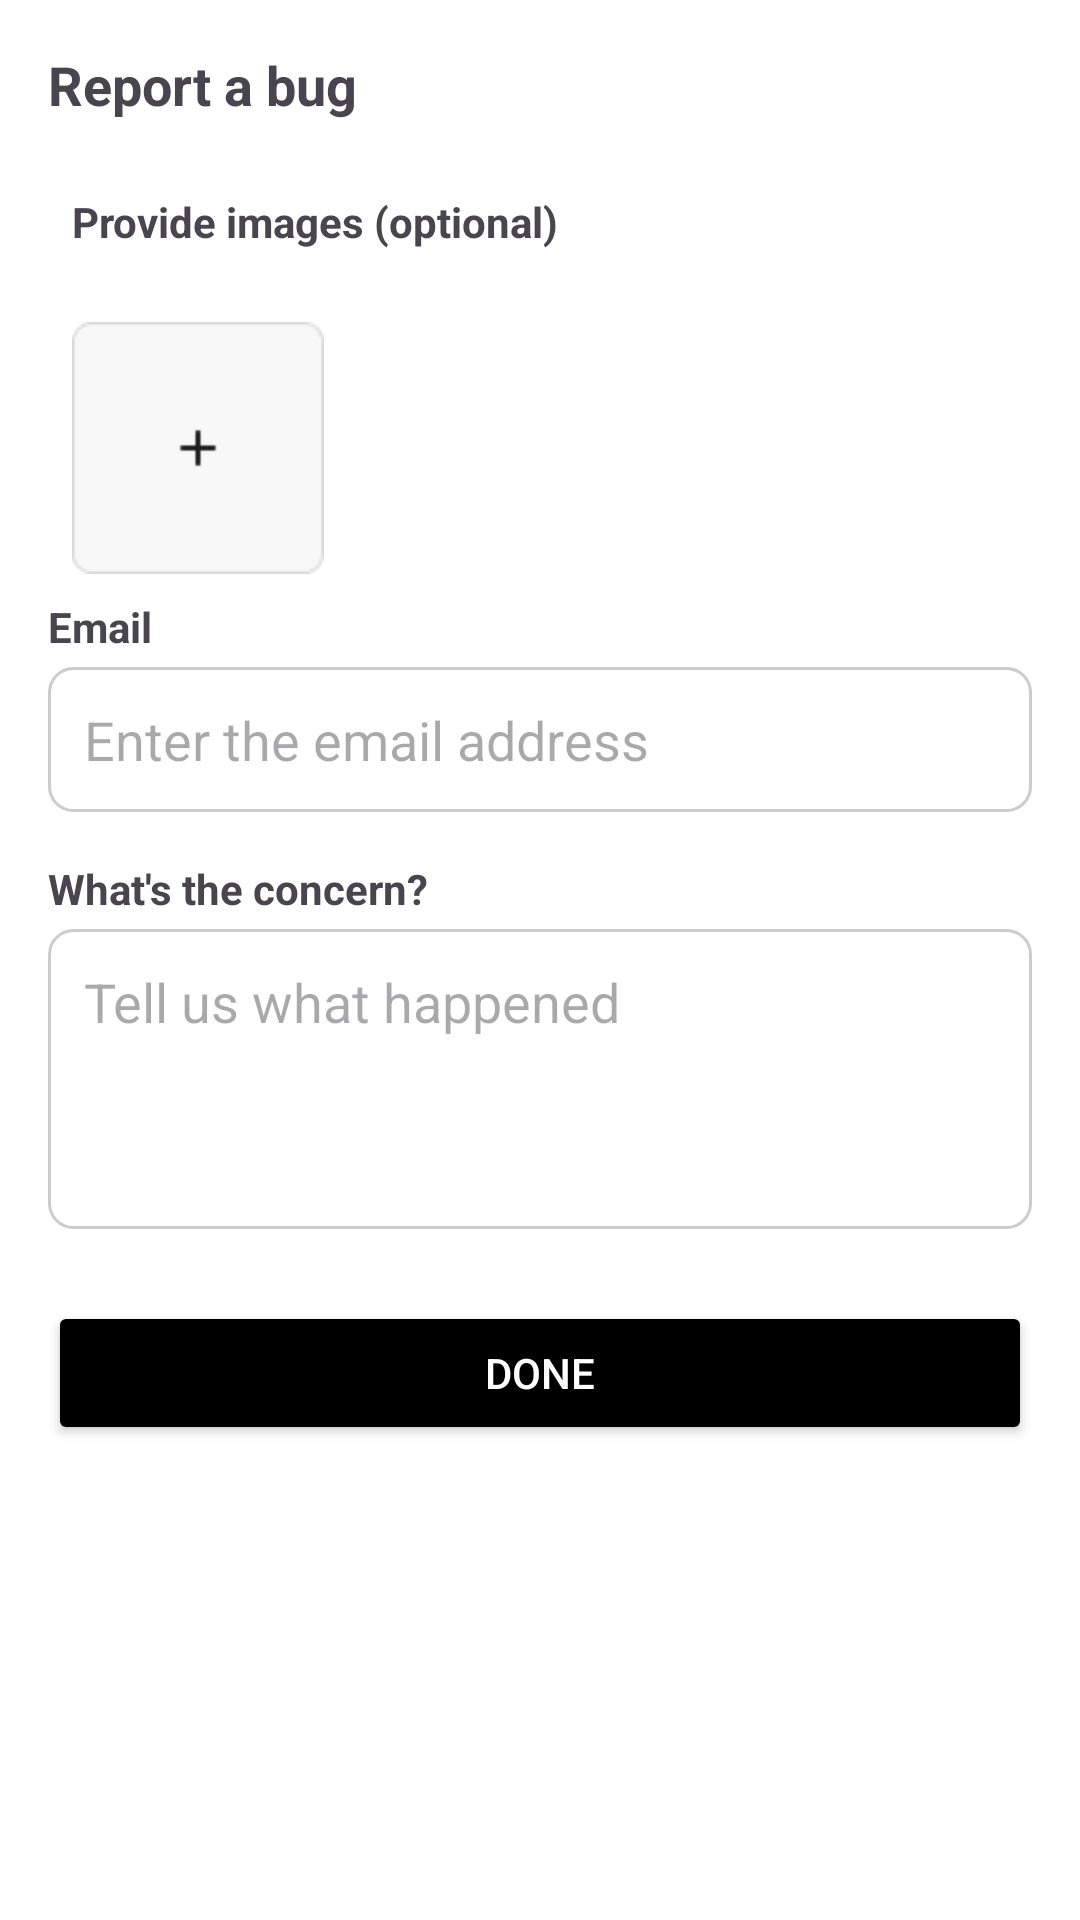

Named icons in this screenshot (1080px x 1920px) and their centers, (x,y):
Add Image: (198,448)
